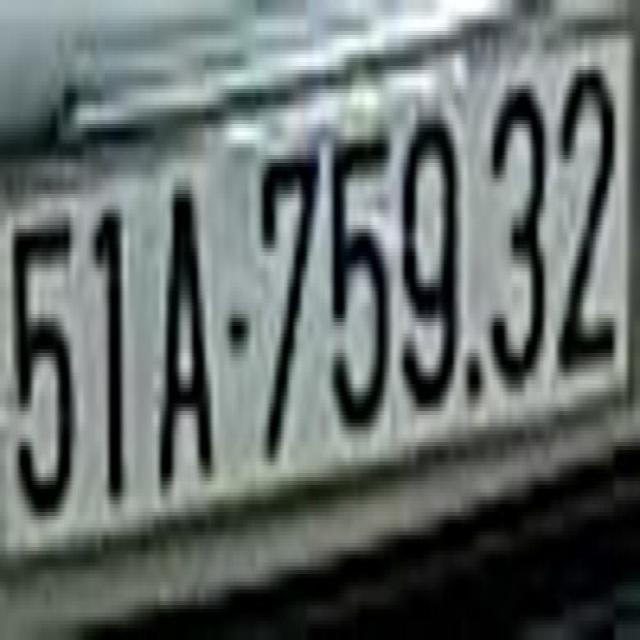1: (86, 178, 140, 524)
2: (554, 39, 618, 392)
3: (489, 43, 542, 415)
5: (10, 186, 76, 551), (326, 109, 391, 450)
7: (256, 120, 322, 454)
9: (397, 78, 457, 430)
A: (154, 163, 216, 512)
